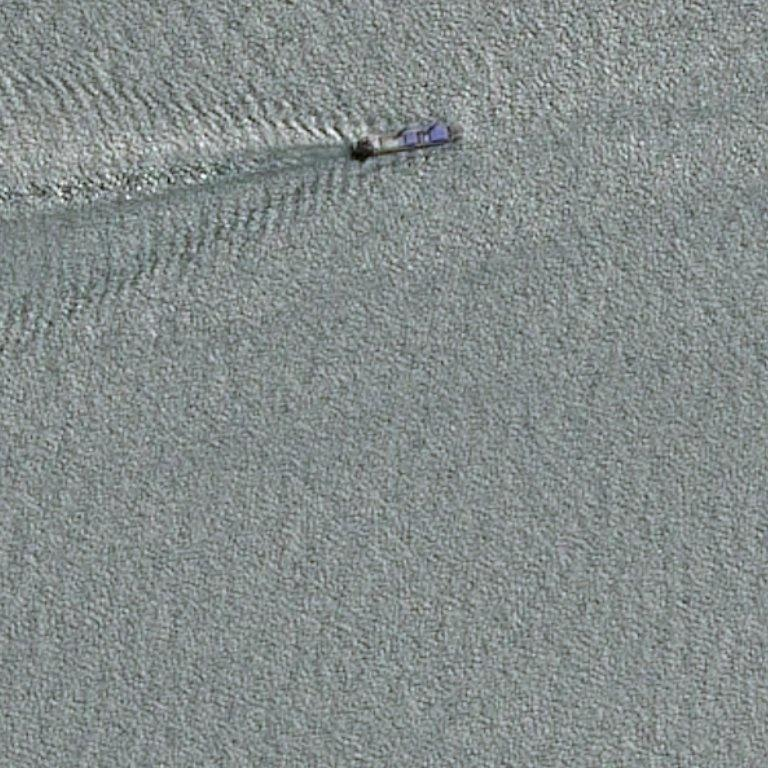ship: (384, 41, 431, 89), (350, 151, 356, 156), (459, 126, 464, 131), (350, 136, 355, 141)
